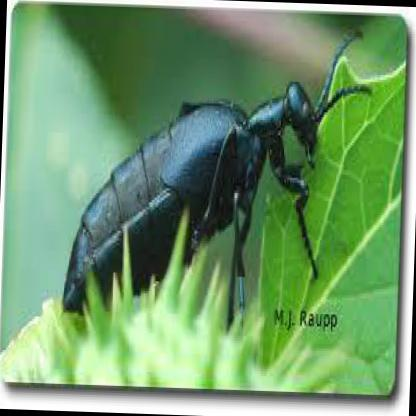blister beetle: (67, 32, 371, 330)
